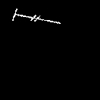treble_crochet: (13, 9, 59, 23)
